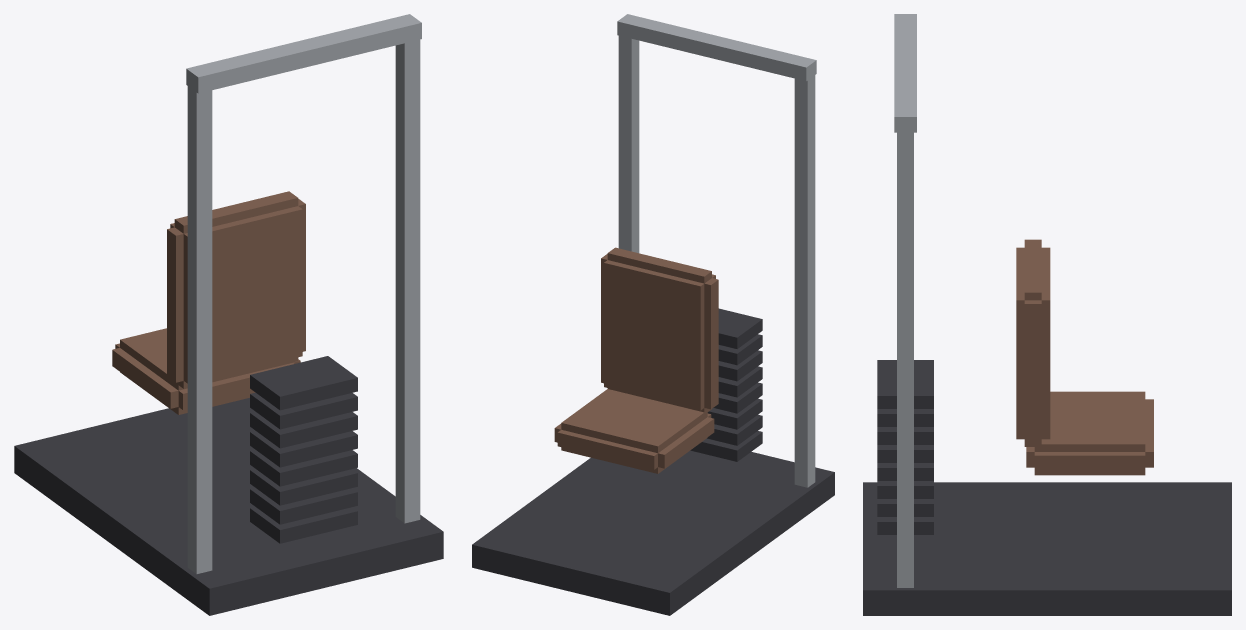
File: resistance_machine.glb
3 views of the same model, side by side, from view 1: azimuth 30°, elevation 25°; view 2: azimuth 150°, elevation 25°; view 3: azimuth 270°, elevation 25° (orthographic). The views are drawn at different scales.
Visible parts, largest first — view 1: resistance_machine; view 2: resistance_machine; view 3: resistance_machine.
Boxes of the visible parts, left/top/right/bottom form: resistance_machine: left=14, top=14, right=443, bottom=615; resistance_machine: left=472, top=14, right=834, bottom=615; resistance_machine: left=863, top=14, right=1231, bottom=615.
Size of the model in its own units: 0.9 by 1.93 by 1.3.
